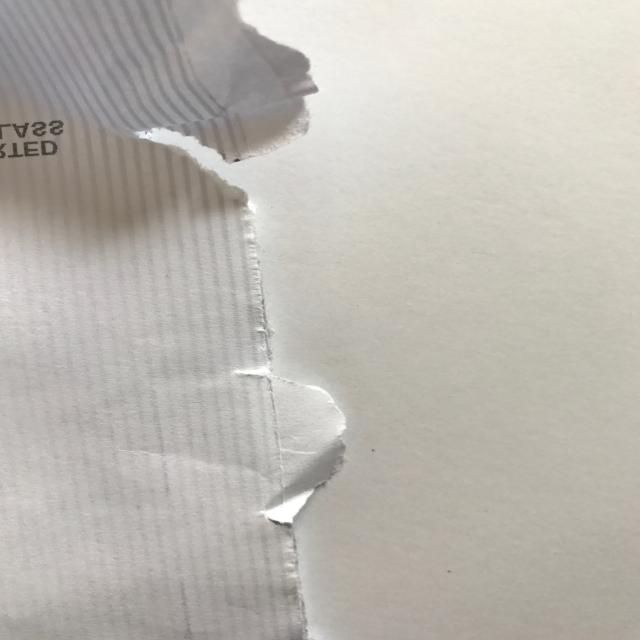paper: (0, 0, 317, 640)
